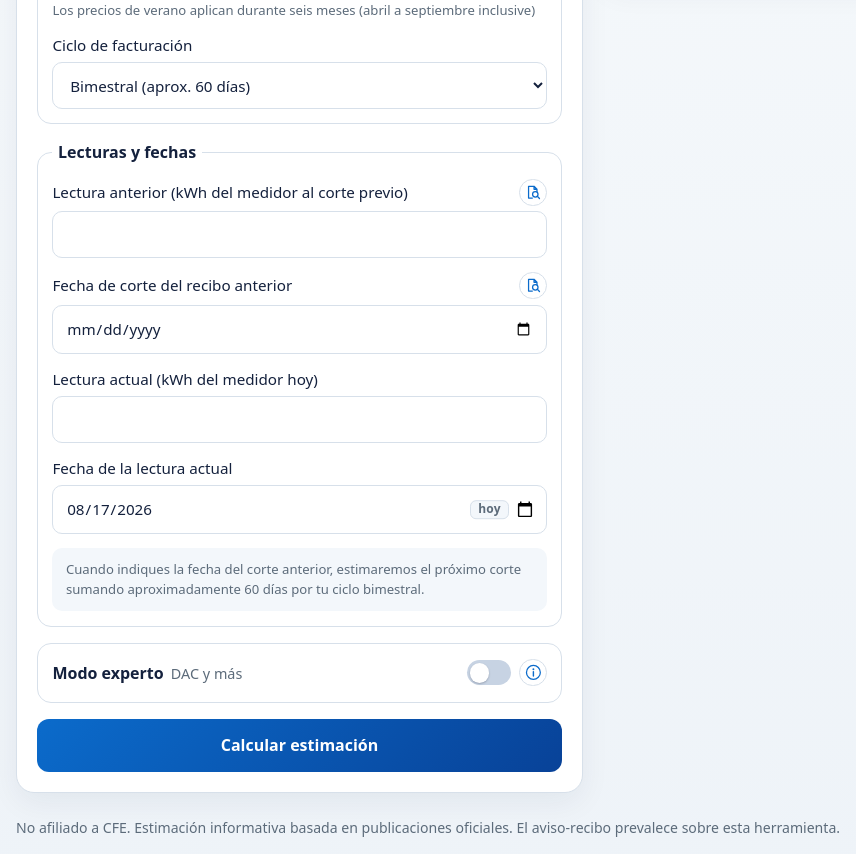
Test: App › hides the share-link control until expert mode is enabled
The width and height of the screenshot is (856, 854).
(page scrolled)
Expected: the button "Copiar enlace con mis datos" is not shown
Click the switch named "Modo experto". click: (489, 673)
box: x1=467 y1=658 x2=511 y2=688
(page scrolled)
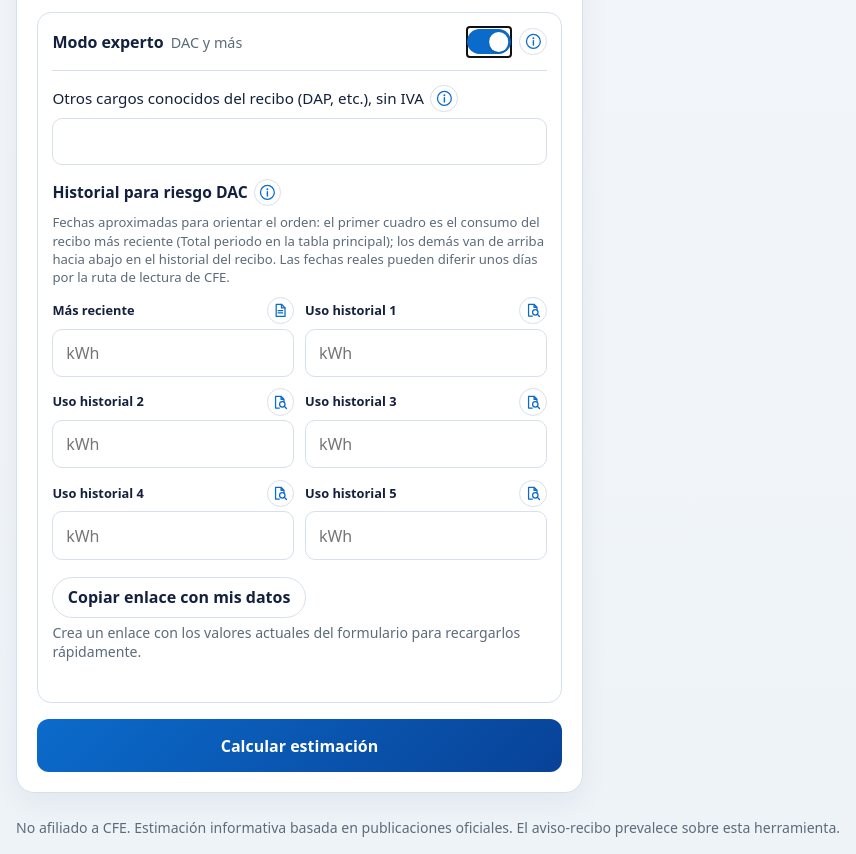
Now the button "Copiar enlace con mis datos" is shown, box x1=52 y1=577 x2=306 y2=618
